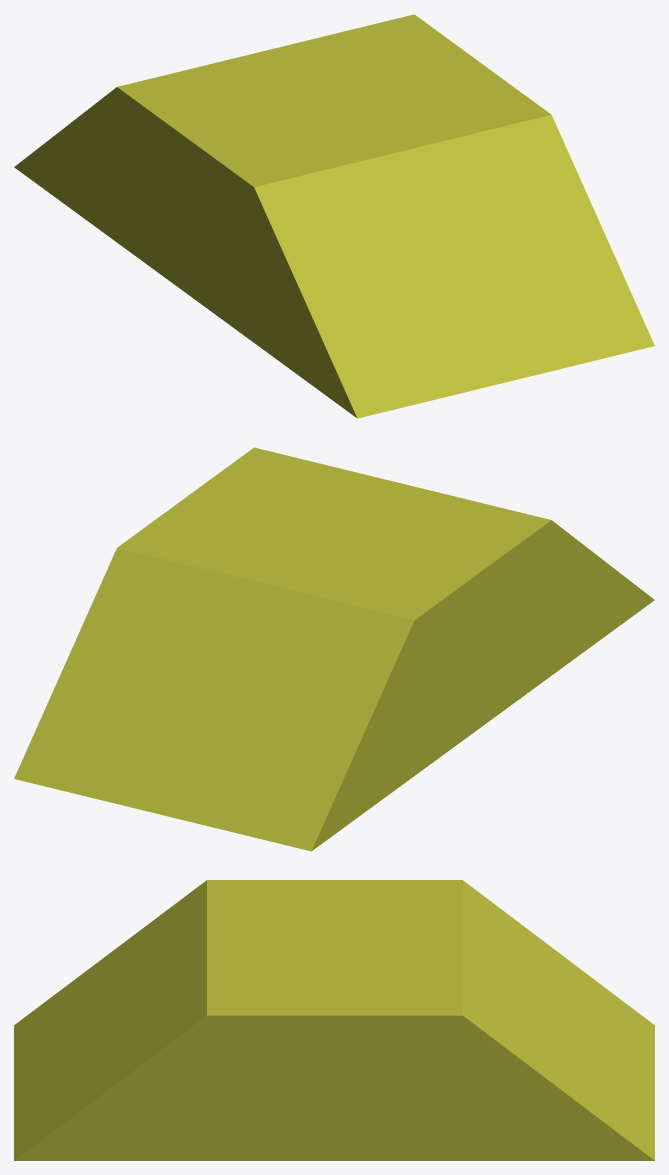
File: Bridge.fbx
3 renders of one model, top to bottom at view 1: azimuth 30°, elevation 25°; view 2: azimuth 150°, elevation 25°; view 3: azimuth 270°, elevation 25°, orthographic. The views are drawn at different scales.
Visible parts, largest first — view 1: bridge; view 2: bridge; view 3: bridge.
Boxes of the visible parts, x1=… form: bridge: x1=14, y1=14, x2=654, y2=418; bridge: x1=14, y1=447, x2=654, y2=851; bridge: x1=14, y1=880, x2=654, y2=1160.
Size of the model in its own units: 2 by 1 by 4.
